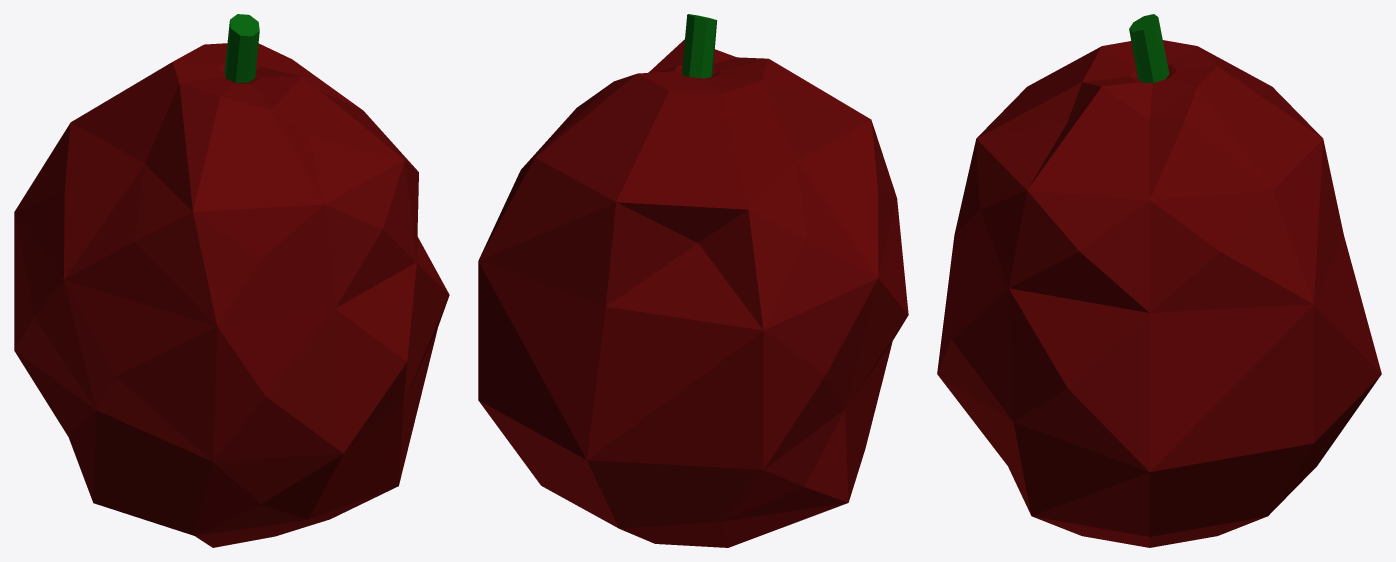
Rendered from passionfruit03.obj.
3 views of the same model, side by side, from view 1: azimuth 30°, elevation 25°; view 2: azimuth 150°, elevation 25°; view 3: azimuth 270°, elevation 25° (orthographic).
Visible parts, largest first — view 1: Cylinder; view 2: Cylinder; view 3: Cylinder.
Part boxes in pixels (x1,y1,x2,y2): Cylinder: (14, 14, 449, 547); Cylinder: (478, 14, 908, 547); Cylinder: (937, 14, 1381, 547).
Bounding box in the file's own units: 0.0517 × 0.0648 × 0.053.
Materials: 1 (1 with a texture image).
